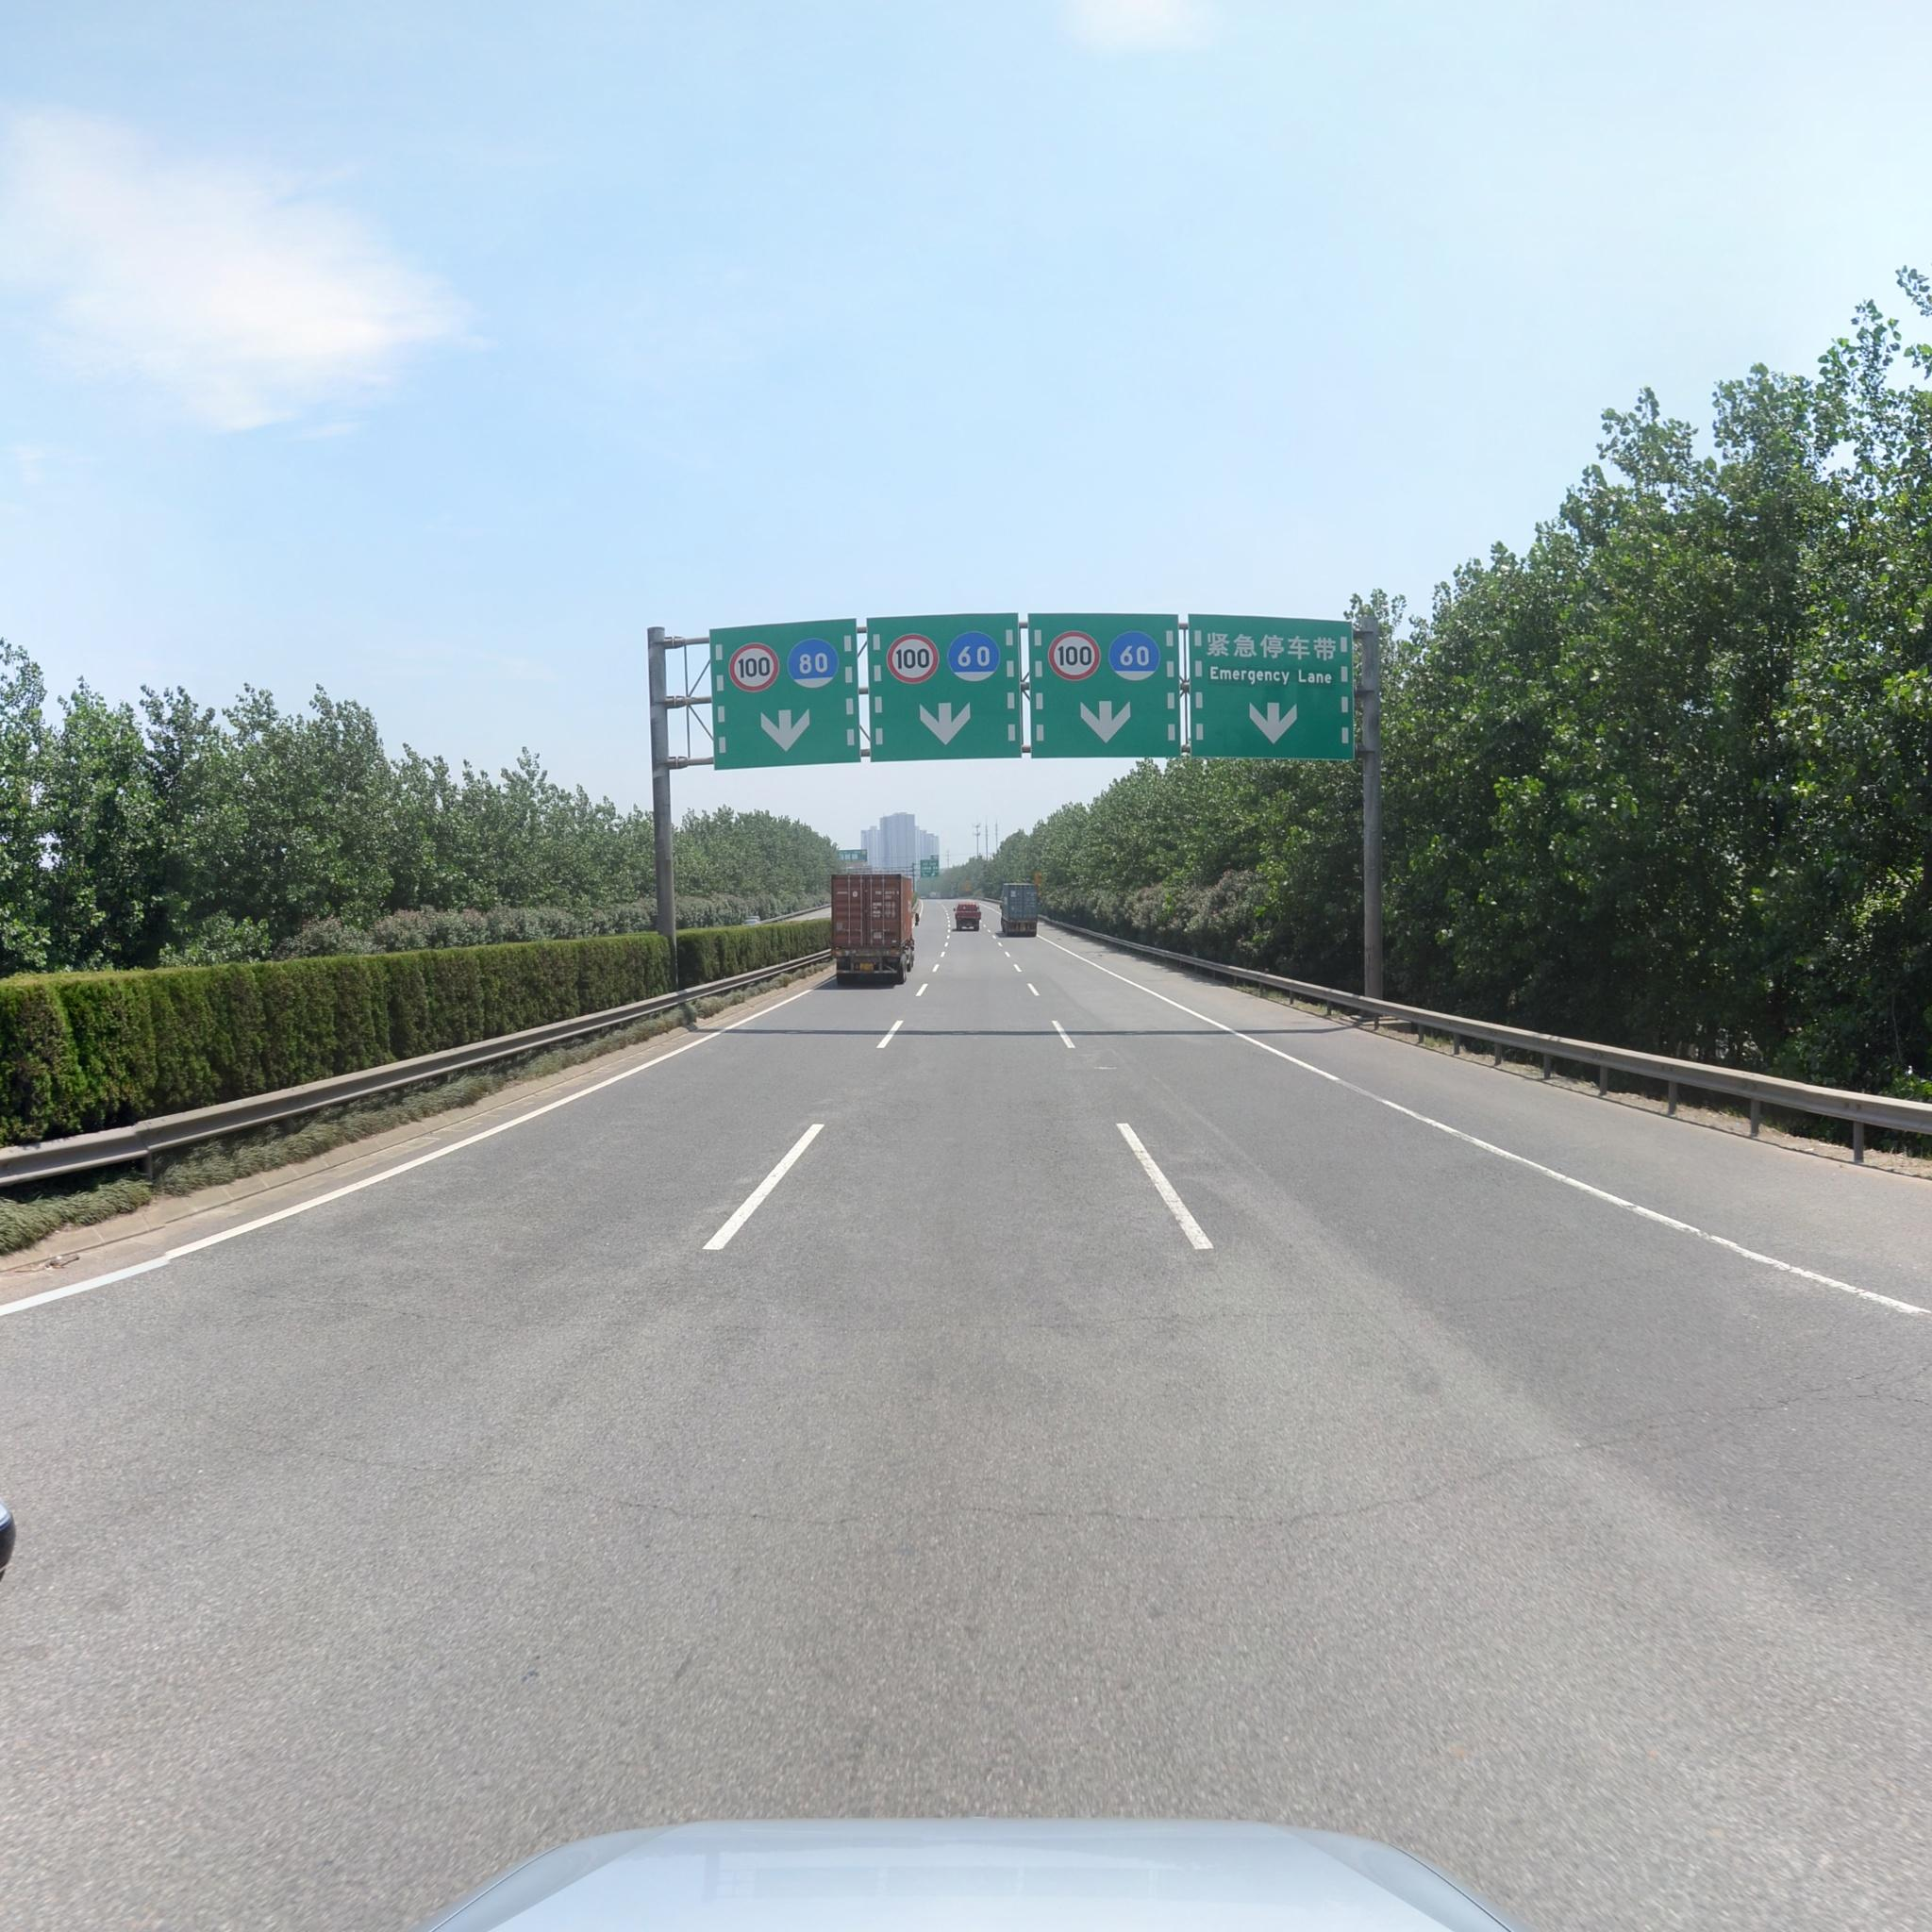il60: (1109, 628, 1161, 681), (948, 630, 1001, 681)
il80: (791, 637, 837, 688)
pl100: (1049, 630, 1100, 683), (890, 633, 939, 685), (729, 642, 778, 692)
